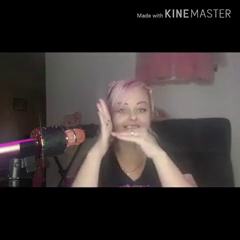Z: (92, 97, 164, 158)
